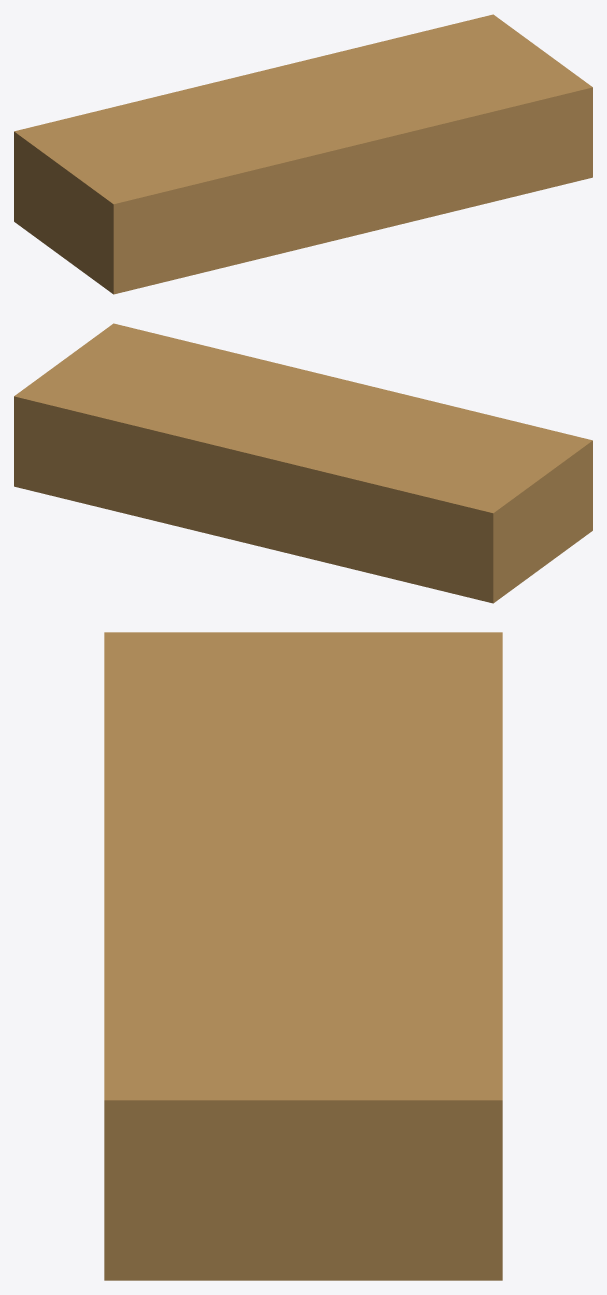
3 views of the same model, one above another, from view 1: azimuth 30°, elevation 25°; view 2: azimuth 150°, elevation 25°; view 3: azimuth 270°, elevation 25° (orthographic). The views are drawn at different scales.
Visible parts, largest first — view 1: RUN-000-S01-NOG-02; view 2: RUN-000-S01-NOG-02; view 3: RUN-000-S01-NOG-02.
Part boxes in pixels (x1=…): RUN-000-S01-NOG-02: x1=14, y1=14, x2=592, y2=294; RUN-000-S01-NOG-02: x1=14, y1=323, x2=592, y2=603; RUN-000-S01-NOG-02: x1=104, y1=632, x2=502, y2=1280.
Size of the model in its own units: 0.2501 by 0.045 by 0.09.
